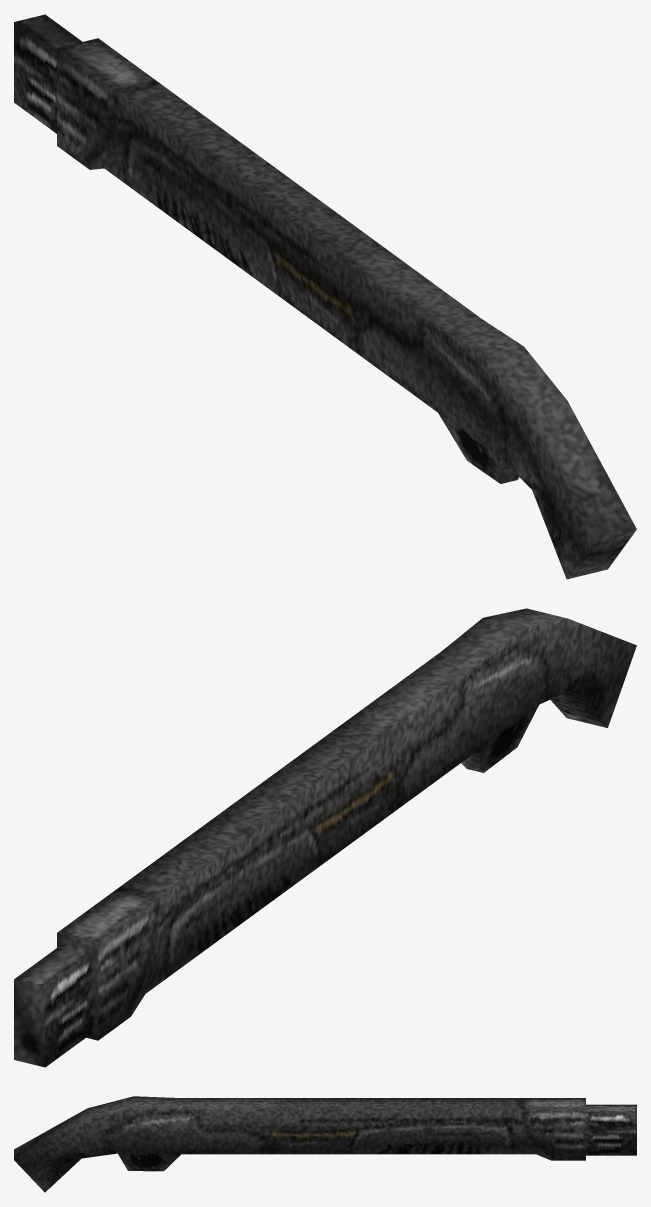
The model's file is shotgun.fbx.
3 renders of one model, top to bottom at view 1: azimuth 30°, elevation 25°; view 2: azimuth 150°, elevation 25°; view 3: azimuth 270°, elevation 25°, orthographic. The views are drawn at different scales.
Parts seen in each view (by area): view 1: Cube; view 2: Cube; view 3: Cube.
Part boxes in pixels (bbox=[...]): Cube: bbox=[14, 14, 636, 579]; Cube: bbox=[14, 608, 636, 1067]; Cube: bbox=[14, 1096, 636, 1192].
Bounding box in the file's own units: 32.09 × 120 × 792.
1 material, 1 textured.
